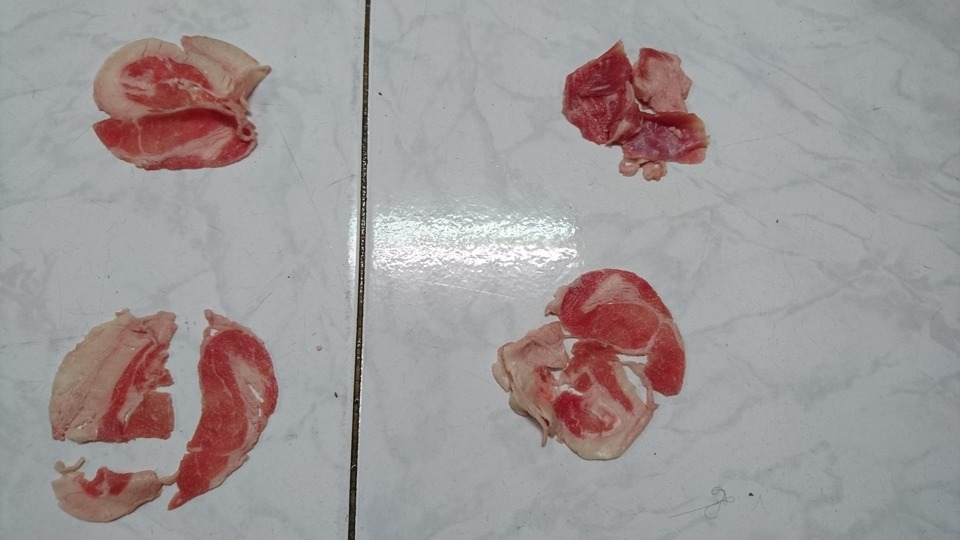restructured meat: (41, 305, 282, 524), (494, 263, 686, 466), (94, 31, 261, 173), (556, 34, 723, 176)
